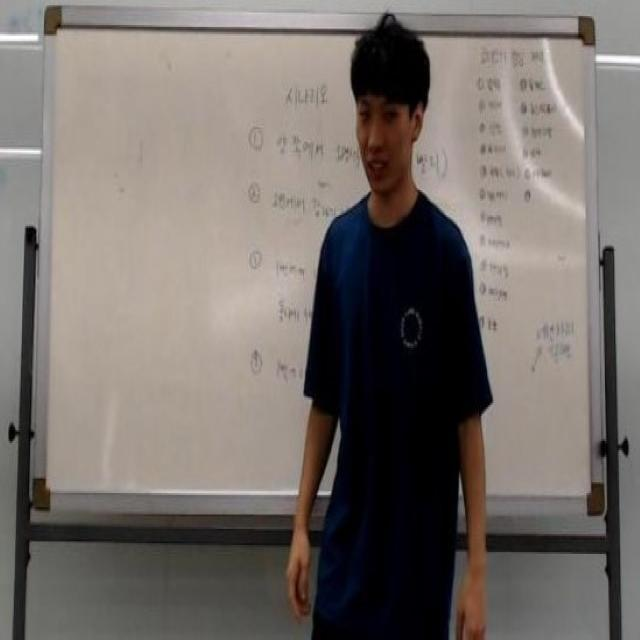Instructor: (316, 14, 458, 600)
White-board: (40, 16, 597, 506)
